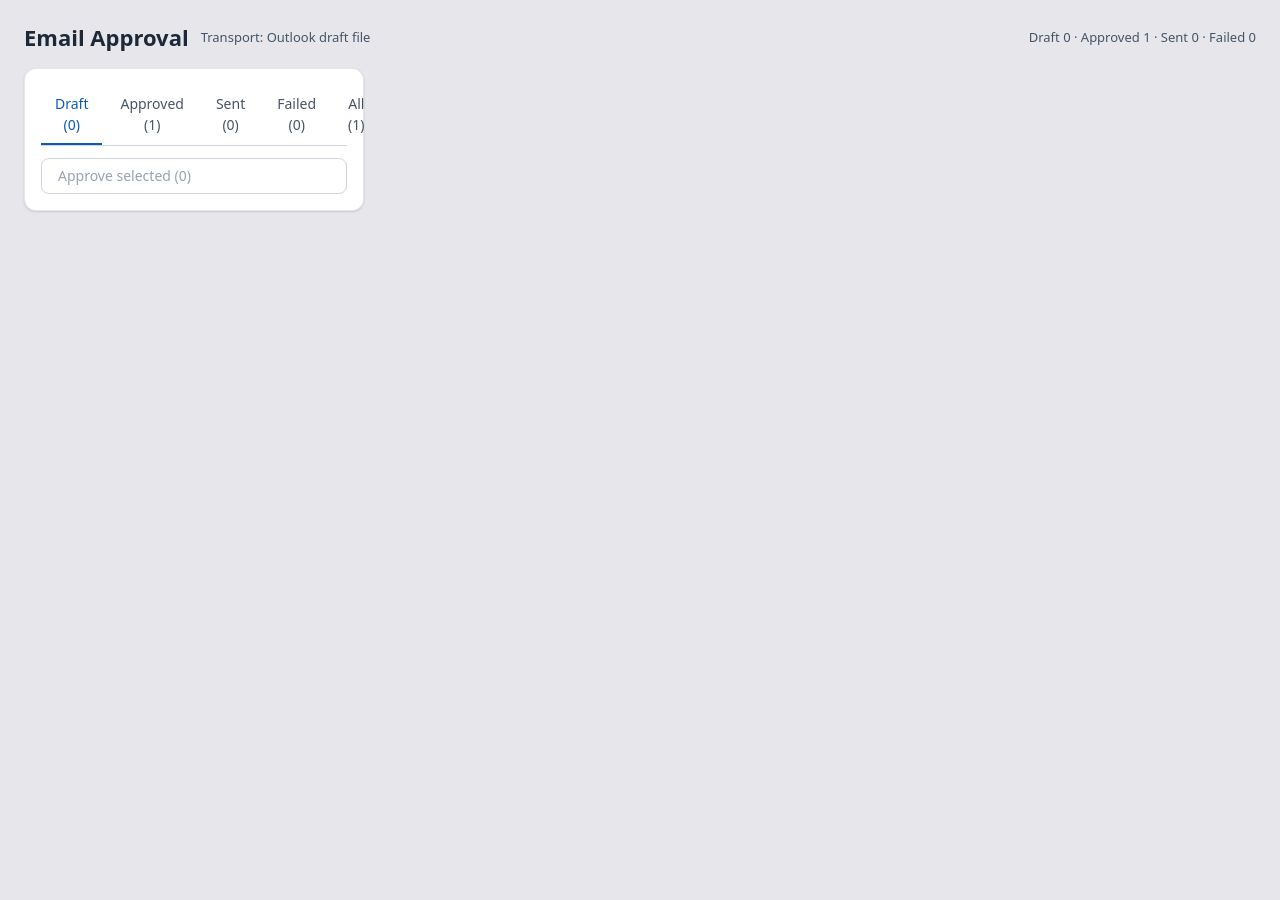
Test case: EmailApprovalPage transport handoff › shows handoff confirmation actions and marks sent through the API client
Later steps or results of the test are not shown.
Click the tab "Approved (1)".
click(152, 114)  # box [106,84,198,144]
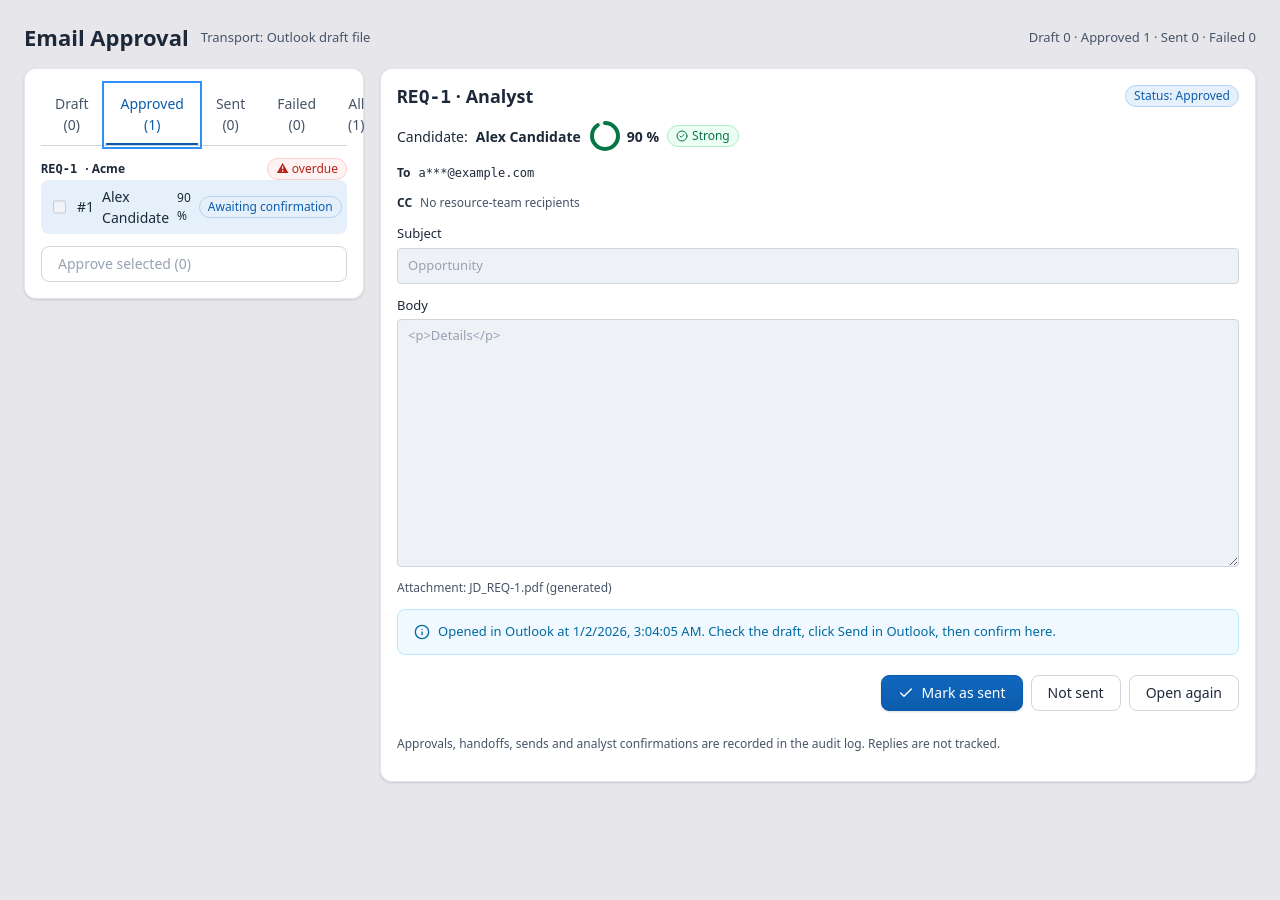
Expected: the text "Check the draft, click Send in Outlook, then confirm here." is shown, [701,622,1056,640]
Expected: the text "Awaiting confirmation" is shown, [199,196,342,218]
Expected: the button "Not sent" is shown, [1030,674,1121,710]
